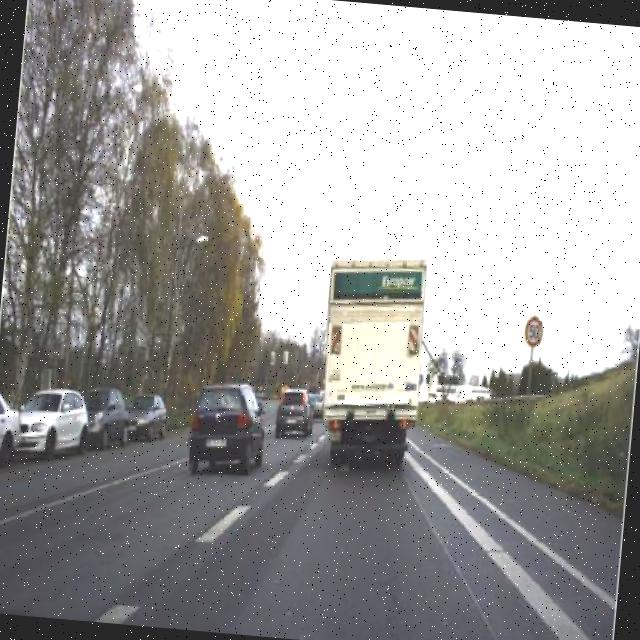Ograniczenie predkosci do 50: (522, 314, 546, 348)
